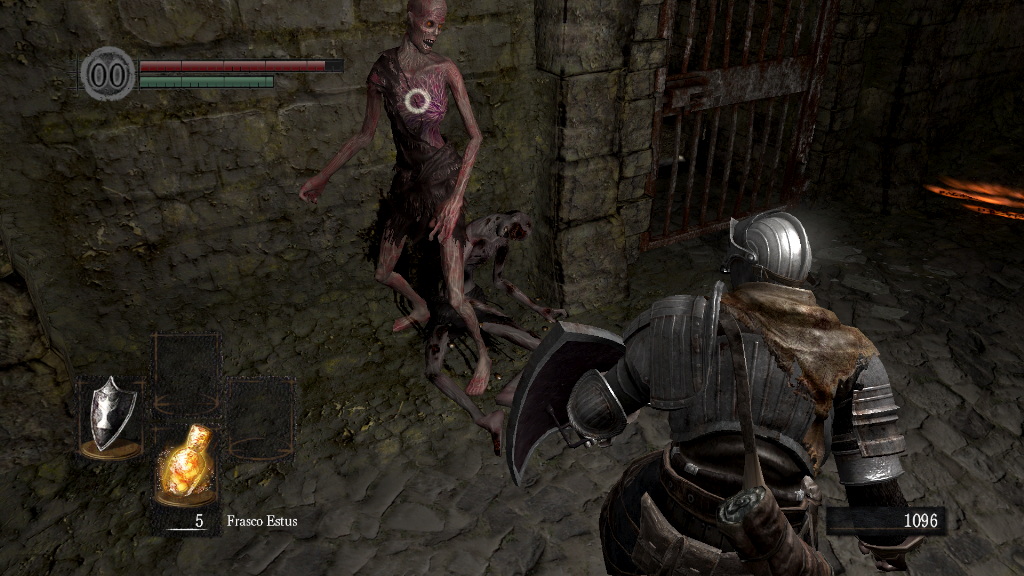health: (138, 58, 343, 71)
hollow: (300, 1, 495, 393)
humanity: (80, 45, 136, 102)
player: (505, 207, 928, 576)
souls: (825, 506, 945, 536)
stamina: (138, 74, 274, 88)
